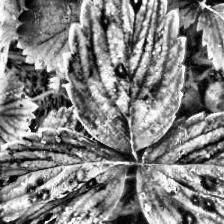Leaf Spot: (63, 0, 188, 154), (0, 127, 129, 224), (135, 109, 224, 224), (0, 73, 40, 153), (195, 0, 224, 89)
